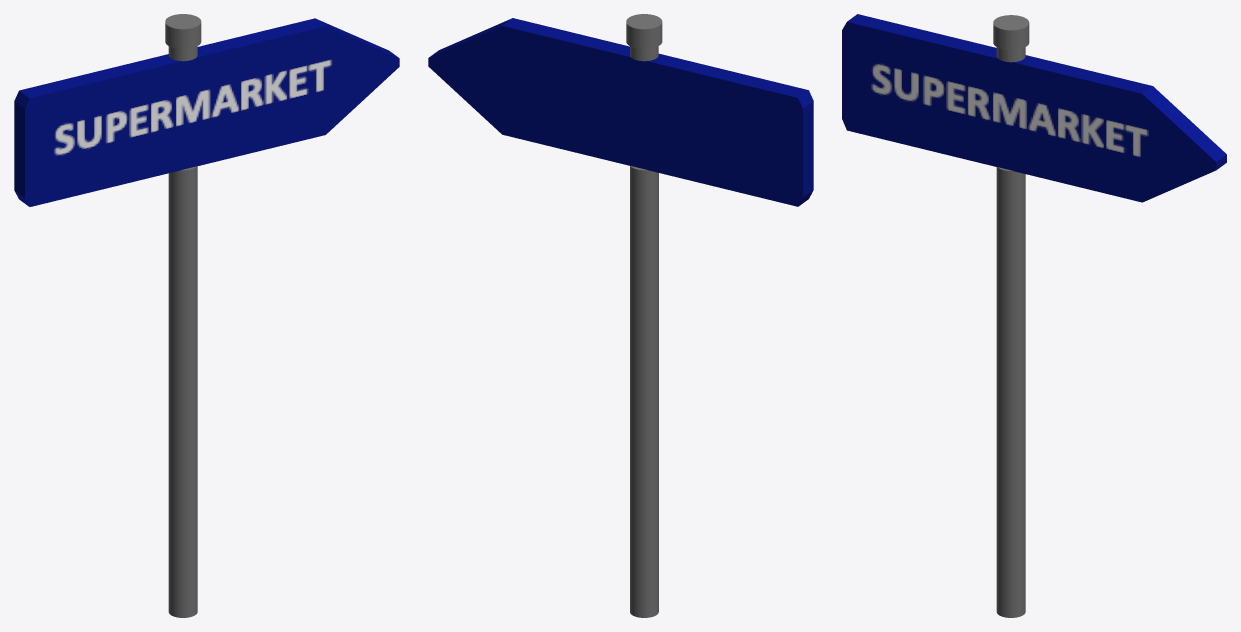
Rendered from CartelloSupermarket.fbx.
3 renders of one model, left to right at view 1: azimuth 30°, elevation 25°; view 2: azimuth 150°, elevation 25°; view 3: azimuth 330°, elevation 25°, orthographic.
Parts seen in each view (by area): view 1: CartelloSuperMarket; view 2: CartelloSuperMarket; view 3: CartelloSuperMarket.
Part boxes in pixels (x1,y1,x2,y2): CartelloSuperMarket: [14, 14, 399, 617]; CartelloSuperMarket: [428, 14, 813, 617]; CartelloSuperMarket: [842, 14, 1226, 617].
Size of the model in its own units: 720 by 1084 by 60.2.
